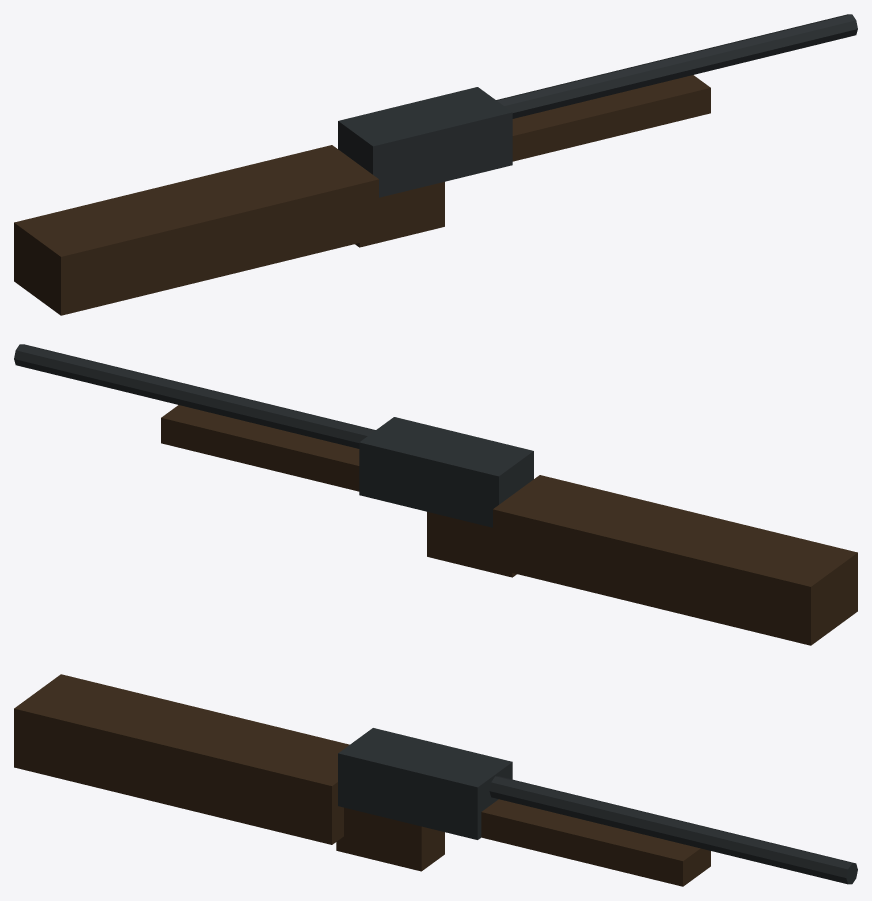
The model's file is mosin-m27.obj.
3 renders of one model, top to bottom at view 1: azimuth 30°, elevation 25°; view 2: azimuth 150°, elevation 25°; view 3: azimuth 330°, elevation 25°, orthographic.
Visible parts, largest first — view 1: long_stock, receiver_silhouette, fore_stock, long_barrel_silhouette, lower_grip_silhouette; view 2: long_stock, receiver_silhouette, fore_stock, long_barrel_silhouette, lower_grip_silhouette; view 3: long_stock, receiver_silhouette, fore_stock, long_barrel_silhouette, lower_grip_silhouette.
Boxes of the visible parts, x1,y1,x2,y2 form: long_stock: (14, 145, 378, 315); receiver_silhouette: (338, 87, 512, 197); fore_stock: (512, 75, 710, 161); long_barrel_silhouette: (496, 14, 857, 118); lower_grip_silhouette: (355, 182, 444, 247); long_stock: (493, 475, 857, 645); receiver_silhouette: (359, 417, 533, 527); fore_stock: (161, 405, 359, 491); long_barrel_silhouette: (14, 344, 375, 448); lower_grip_silhouette: (427, 512, 516, 577); long_stock: (14, 674, 349, 844); receiver_silhouette: (338, 728, 512, 839); fore_stock: (481, 799, 710, 886); long_barrel_silhouette: (489, 776, 857, 884); lower_grip_silhouette: (336, 807, 444, 871).
Size of the model in its own units: 2.1 by 0.255 by 0.21.
